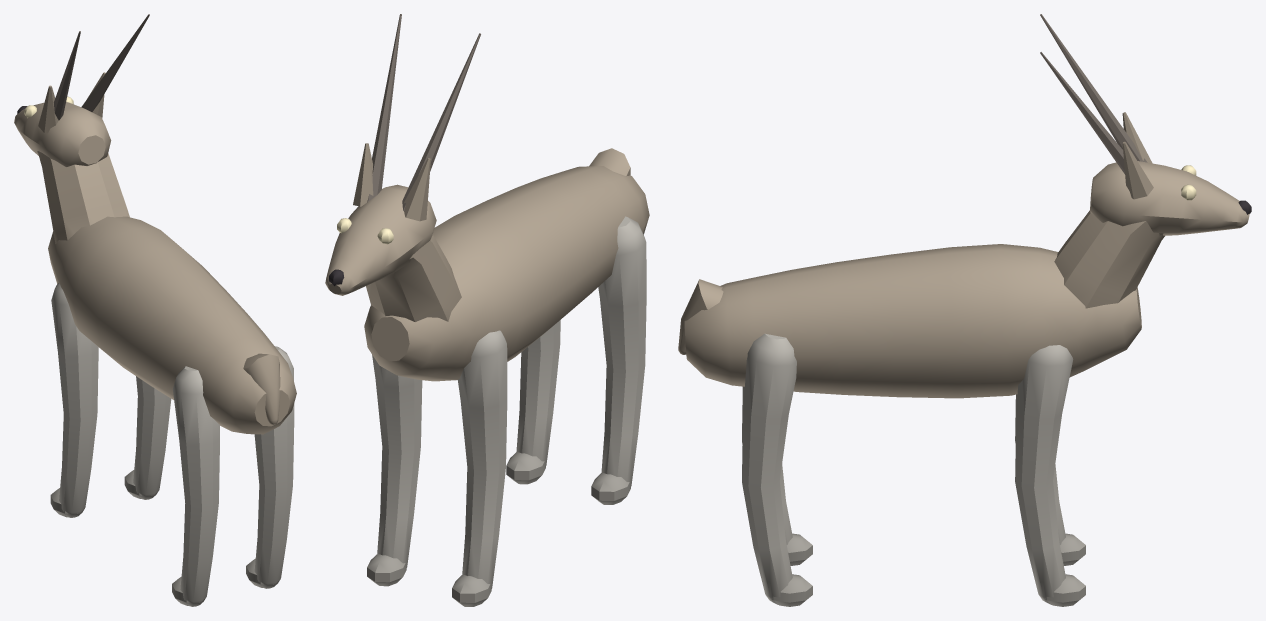
Rendered from dune_antelope.gltf.
The picture shows the model from 3 angles, left to right: view 1: azimuth 30°, elevation 25°; view 2: azimuth 150°, elevation 25°; view 3: azimuth 270°, elevation 25°; orthographic projection. The views are drawn at different scales.
Parts seen in each view (by area): view 1: Body, SwingB2, SwingA1, SwingA2, SwingB1; view 2: Body, SwingA1, SwingB2, SwingB1, SwingA2; view 3: Body, SwingA2, SwingB1, SwingB2, SwingA1.
Boxes of the visible parts, x1,y1,x2,y2 form: Body: (14,14,296,434); SwingB2: (172,366,219,606); SwingA1: (50,283,98,517); SwingA2: (246,346,294,588); SwingB1: (124,376,171,499); Body: (325,14,649,381); SwingA1: (452,330,507,606); SwingB2: (591,216,646,504); SwingB1: (367,355,422,586); SwingA2: (506,320,560,484); Body: (678,14,1251,398); SwingA2: (742,333,812,606); SwingB1: (1015,345,1085,606); SwingB2: (742,386,812,565); SwingA1: (1015,394,1085,565).
Bounding box in the file's own units: 0.464 × 1.9 × 1.79.
